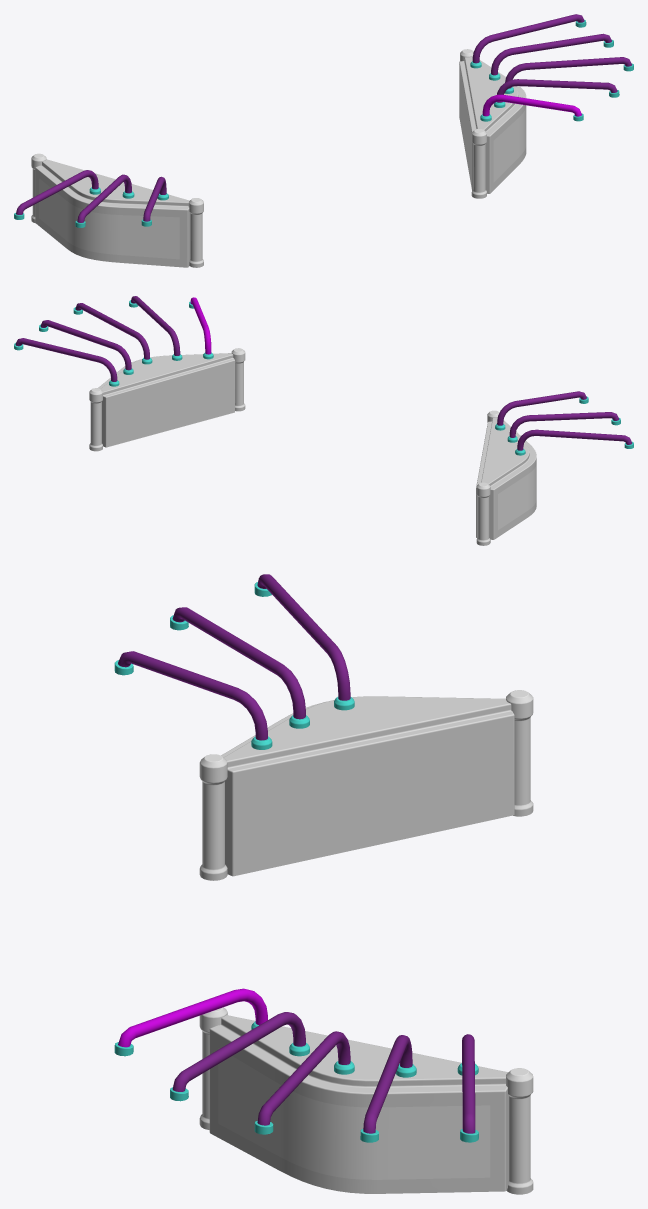
File: BottomBouncer_SM.fbx
3 views of the same model, one above another, from view 1: azimuth 30°, elevation 25°; view 2: azimuth 150°, elevation 25°; view 3: azimuth 270°, elevation 25° (orthographic). The views are drawn at different scales.
Parts seen in each view (by area): view 1: BottomBouncer.001, BottomBouncer, BottomBouncerPillars.001, RandomPipe.004, RandomPipe.003, Cylinder, BottomBouncerPillars, RandomPipe.002, RandomPipe.001, RandomPipe.008, RandomPipe.007, RandomPipe.006; view 2: BottomBouncer, BottomBouncer.001, BottomBouncerPillars, RandomPipe.008, RandomPipe.007, BottomBouncerPillars.001, Cylinder, RandomPipe.004, RandomPipe.006, RandomPipe.003, RandomPipe.002, RandomPipe.001; view 3: BottomBouncer.001, BottomBouncer, BottomBouncerPillars.001, BottomBouncerPillars, RandomPipe.006, RandomPipe.007, RandomPipe.002, RandomPipe.001, RandomPipe.008, RandomPipe.003, RandomPipe.004, Cylinder.
Part boxes in pixels (x1,y1,x2,y2): BottomBouncer.001: (35,159,189,267); BottomBouncer: (459,57,526,193); BottomBouncerPillars.001: (31,153,203,267); RandomPipe.004: (489,33,613,80); RandomPipe.003: (504,57,633,93); Cylinder: (470,14,586,68); BottomBouncerPillars: (460,49,486,198); RandomPipe.002: (494,79,619,107); RandomPipe.001: (480,94,583,121); RandomPipe.008: (14,170,100,219); RandomPipe.007: (75,174,134,227); RandomPipe.006: (141,176,168,226); BottomBouncer: (98,353,235,447); BottomBouncer.001: (476,418,536,539); BottomBouncerPillars: (89,348,245,451); RandomPipe.008: (515,429,633,455); RandomPipe.007: (507,412,620,442); BottomBouncerPillars.001: (476,410,499,545); Cylinder: (14,338,119,386); RandomPipe.004: (39,320,133,374); RandomPipe.006: (495,391,588,430); RandomPipe.003: (73,303,152,364); RandomPipe.002: (129,296,182,360); RandomPipe.001: (189,297,213,359); BottomBouncer.001: (221,696,514,876); BottomBouncer: (209,1015,508,1193); BottomBouncerPillars.001: (199,690,533,880); BottomBouncerPillars: (199,1007,533,1194); RandomPipe.006: (114,651,272,749); RandomPipe.007: (170,607,309,728); RandomPipe.002: (170,1012,309,1101); RandomPipe.001: (114,988,267,1056); RandomPipe.008: (254,574,354,710); RandomPipe.003: (254,1031,354,1134); RandomPipe.004: (360,1035,416,1142); Cylinder: (457,1034,478,1142).
Size of the model in its own units: 46.51 by 6.28 by 14.86.
